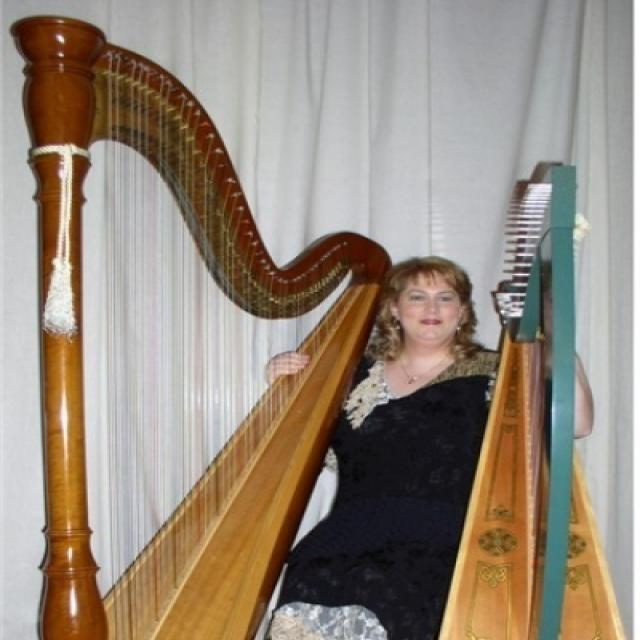harp: (6, 7, 395, 640), (435, 163, 628, 640)
